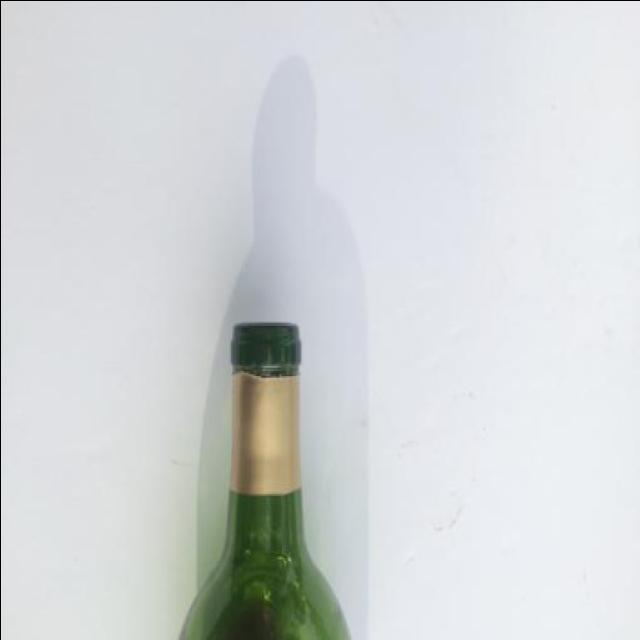glass: (130, 311, 364, 640)
